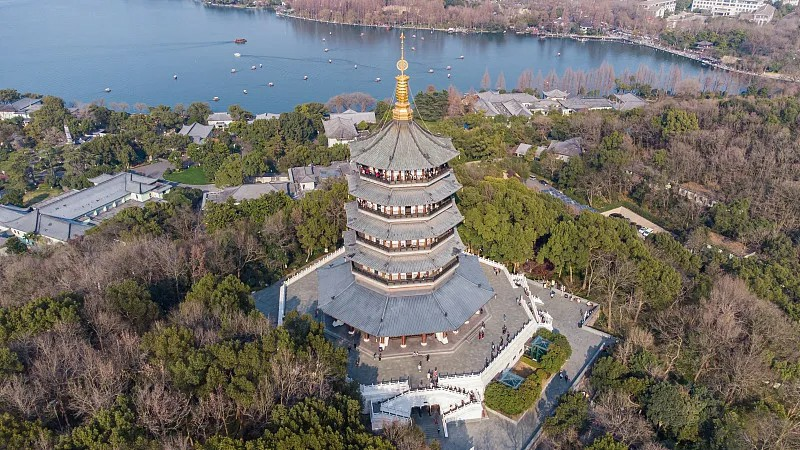Leifeng: (312, 32, 496, 358)
